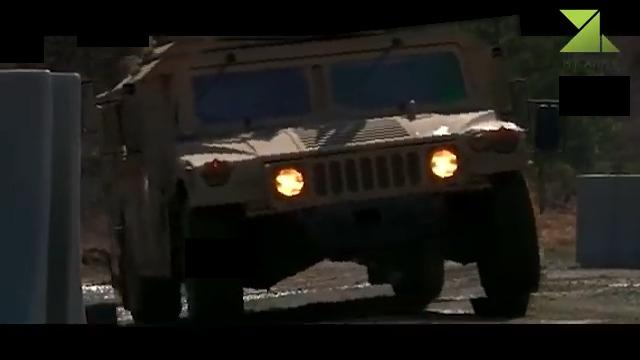MIL_HMMWV: (97, 26, 542, 325)
